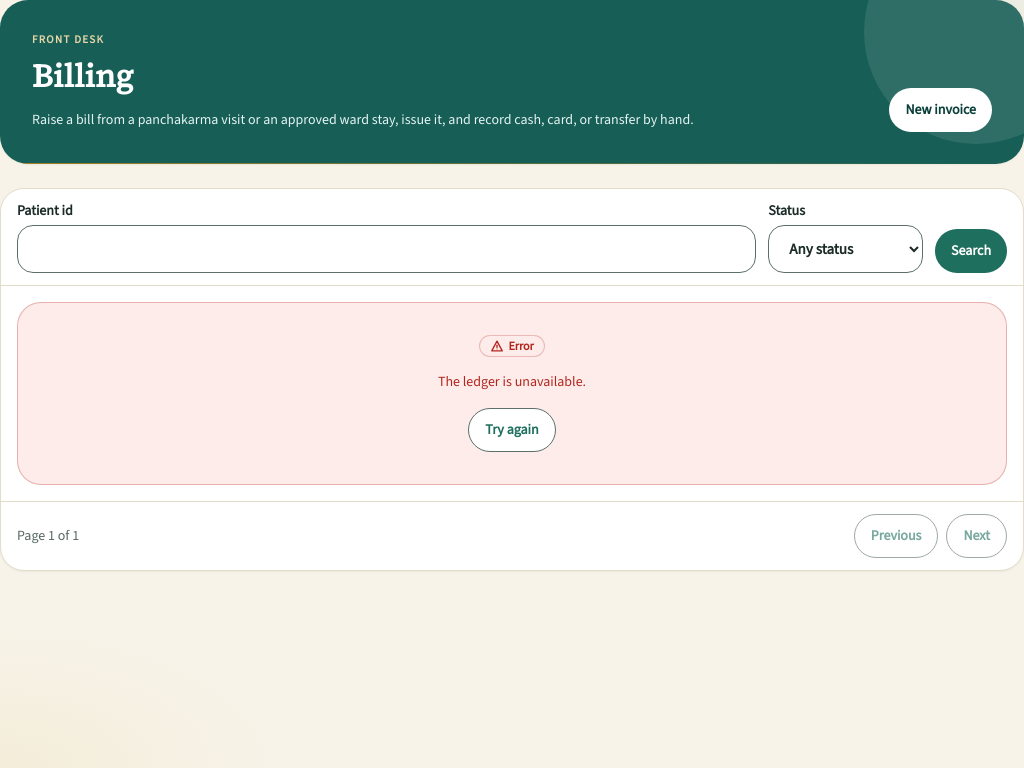
it: BillingPage › shows an error and retries
The width and height of the screenshot is (1024, 768).
Expected: the text "The ledger is unavailable." is shown, [438,372,586,391]
Click the button "Try again" at (512, 430), box [468,408,556,452]
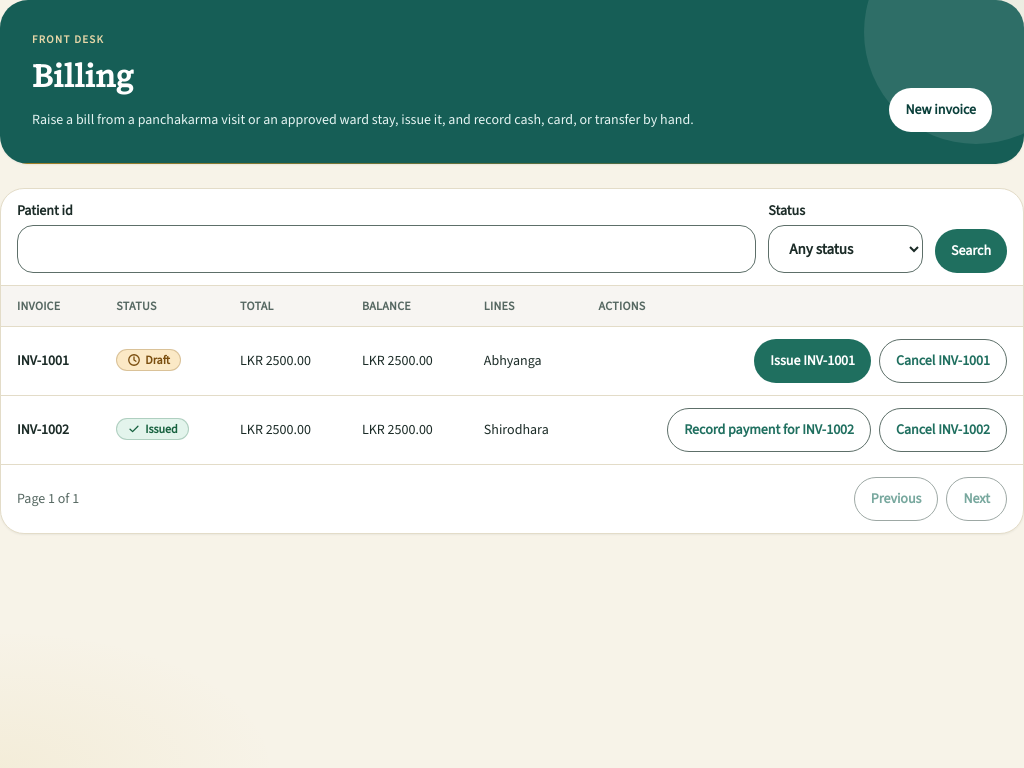
Expected: the text "INV-1001" is shown, [17,351,69,370]
